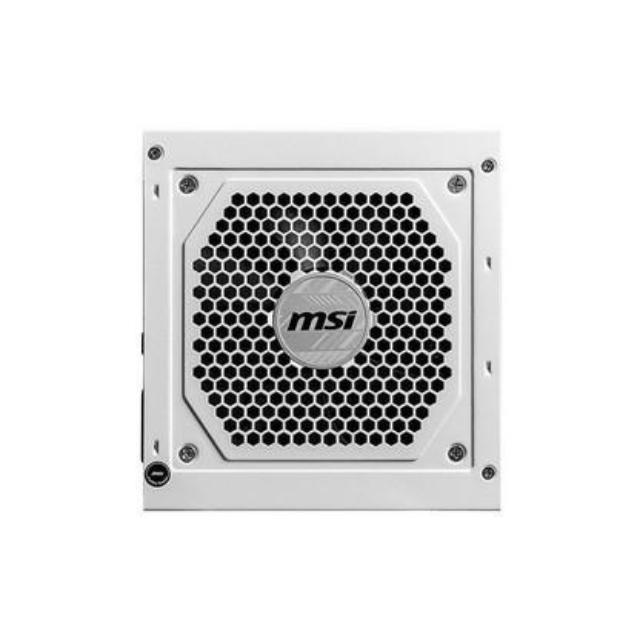PSU: (126, 124, 522, 524)
